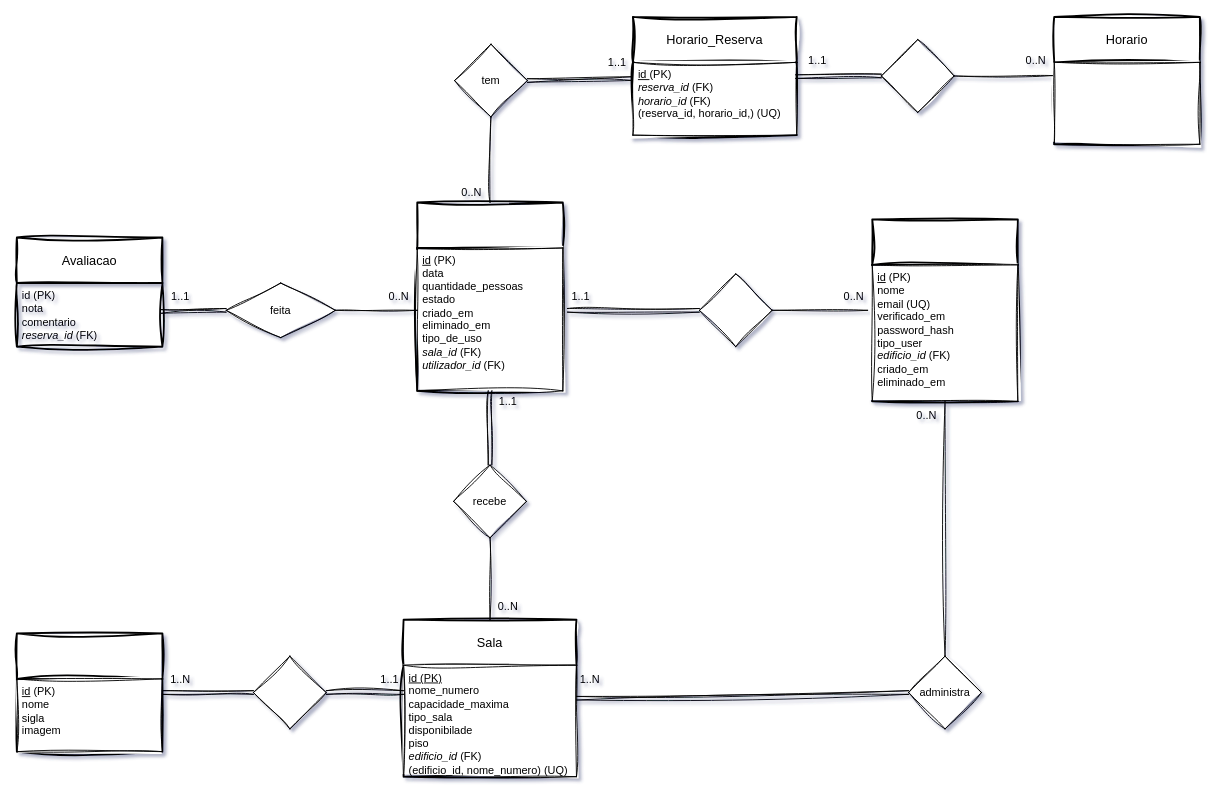
The diagram is 1221 pixels wide and 798 high, and some of its shapes have lost their labels. Each missing label, with the box of its shape:
define: (880, 39, 954, 112)
Edificio: (15, 632, 163, 752)
id (PK) hora_inicio hora_fim (hora_inicio, hora_fim) (UQ): (1053, 61, 1200, 144)
possui: (253, 655, 326, 729)
realiza: (698, 273, 772, 347)
Reserva: (416, 201, 563, 391)
Utilizador: (871, 218, 1018, 402)
